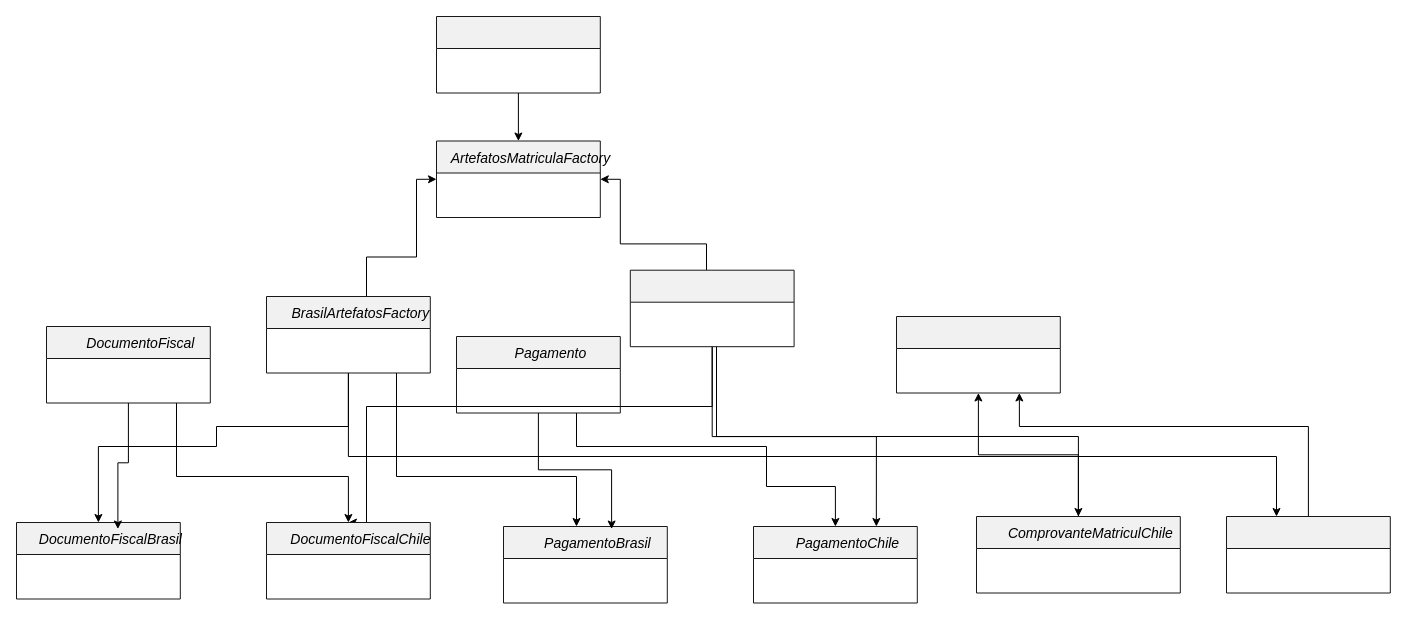
This 1426x619 diagram has some shape labels left out. The shapes that lost their labels are listed below. From the top down, each one's box as (x1, y1, x2, y2) in pixels, then its label:
(436, 16, 600, 93): Matricula
(629, 269, 794, 347): ChileArtefatosFactory
(896, 316, 1060, 393): comprovanteMatricula
(1226, 516, 1390, 593): ComprovanteMatriculaBrasil
